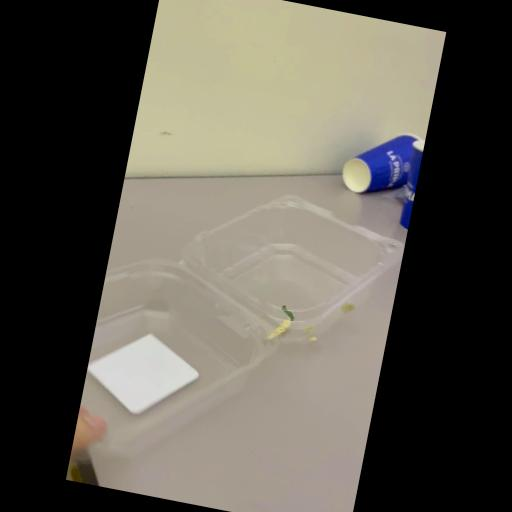lp_paper_cup: (340, 122, 422, 204), (397, 137, 425, 227)
small_plastic_container: (74, 167, 402, 495)
